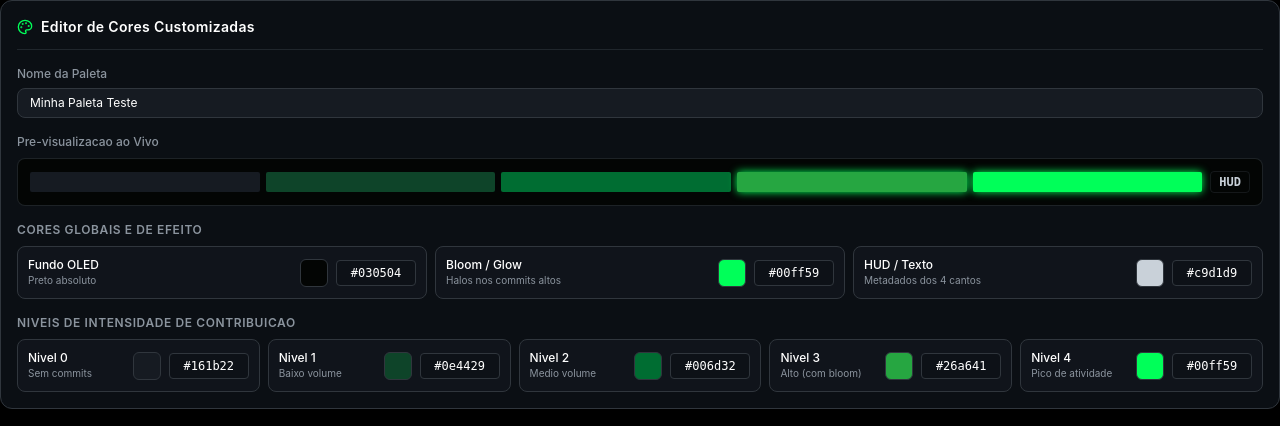
Test case: CustomPaletteEditor component › restaura valor anterior no blur se o valor digitado for invalido
Replace the text in the field named "Entrada hexadecimal para Bloom / Glow" with "#xyz" at (794, 272), box x1=754 y1=260 x2=834 y2=286
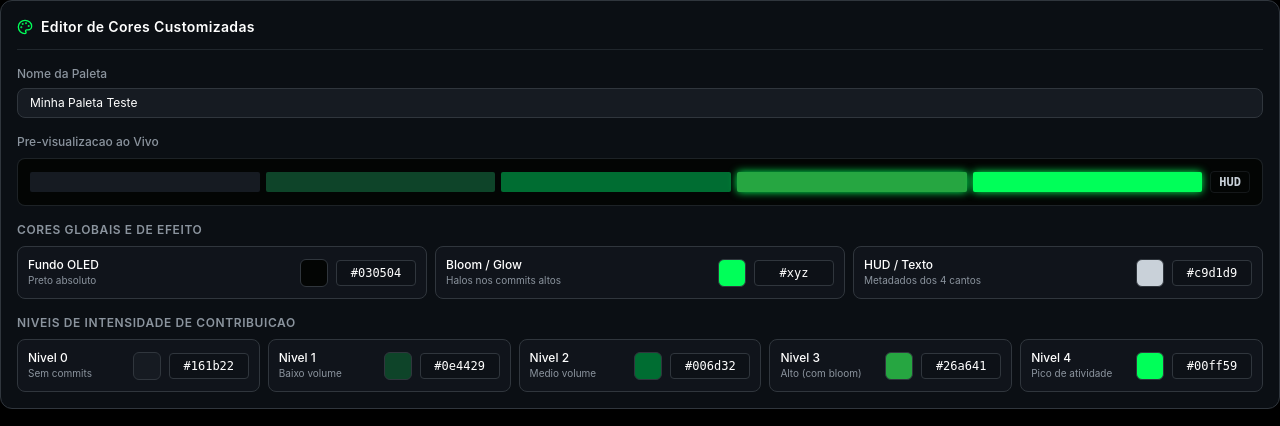
Leave the field named "Entrada hexadecimal para Bloom / Glow", box x1=754 y1=260 x2=834 y2=286
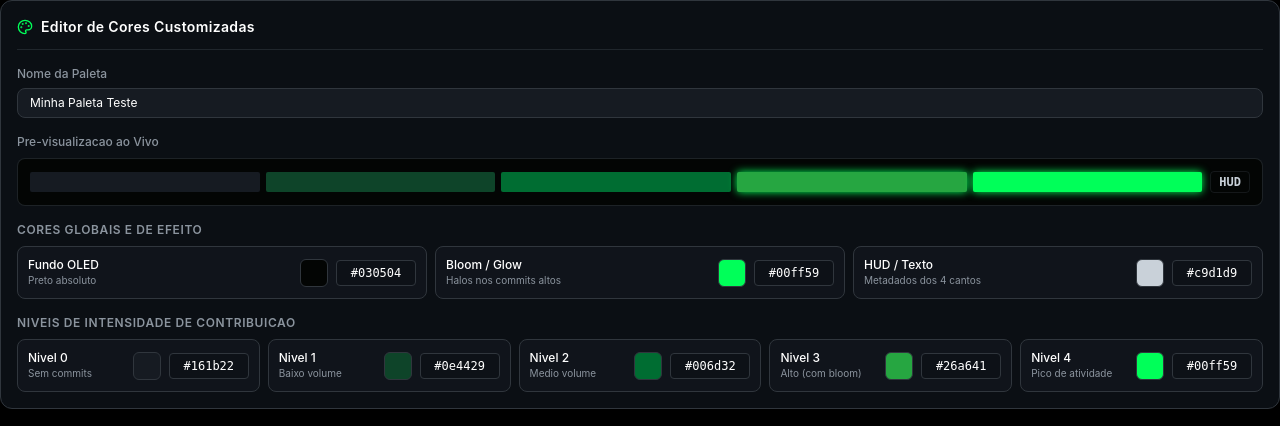
Expected: the field named "Entrada hexadecimal para Bloom / Glow" holds "#00ff59", x1=754 y1=260 x2=834 y2=286
